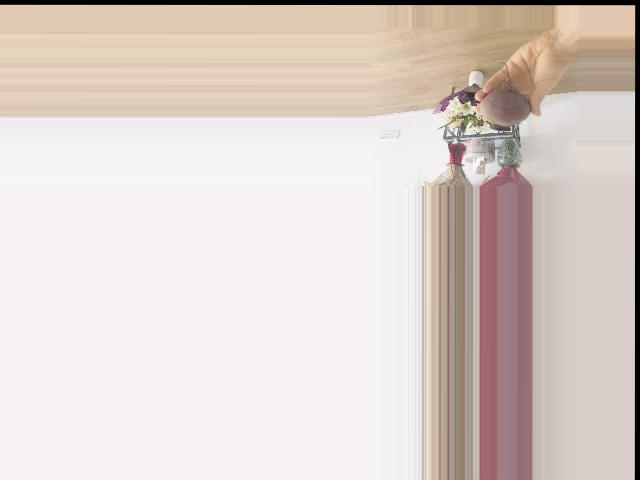beet: (479, 61, 530, 130)
